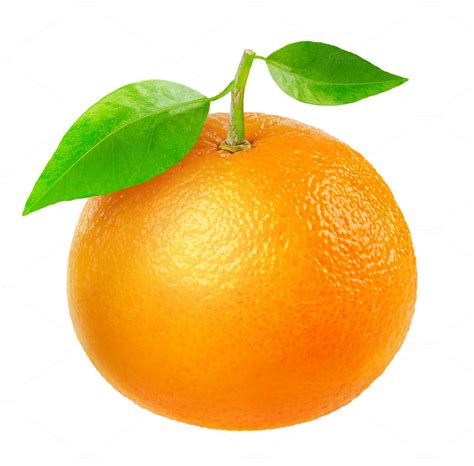orange: (58, 106, 423, 435)
